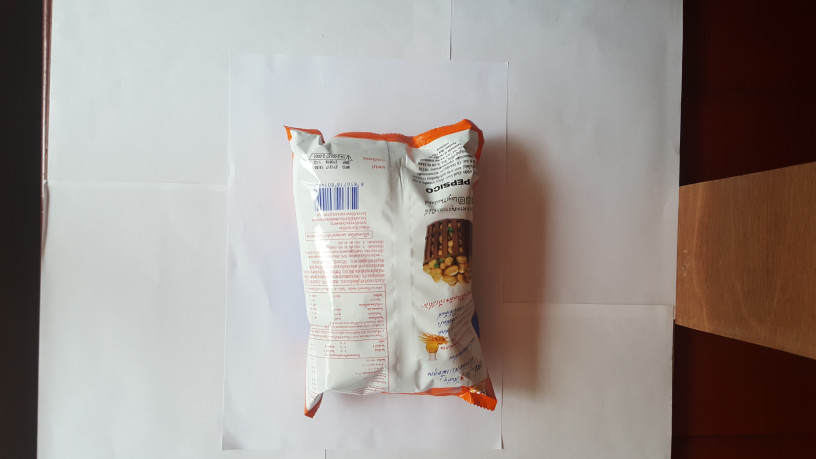lays-bbq: (280, 114, 508, 428)
